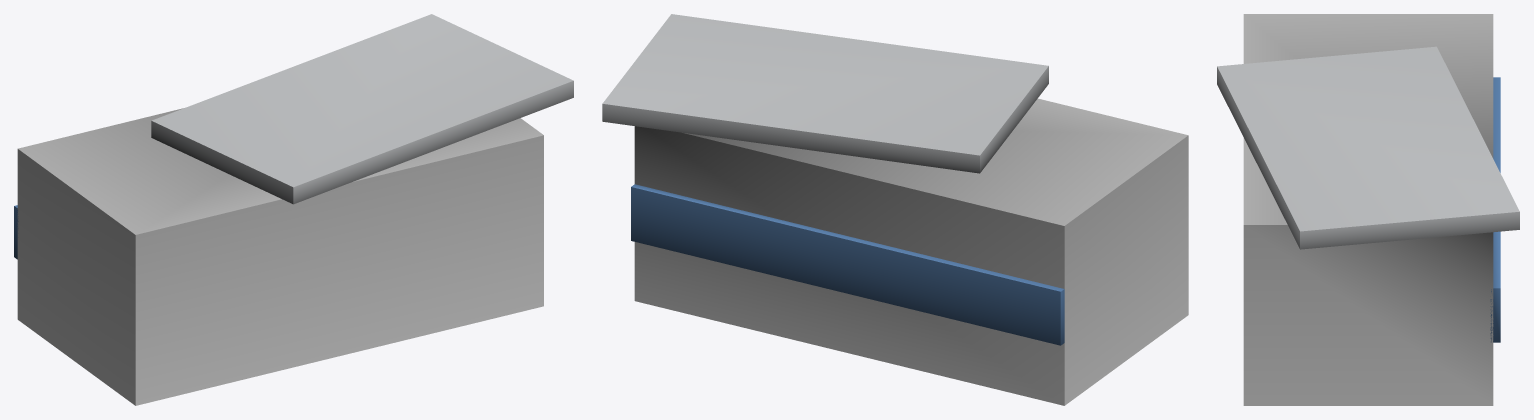
Rendered from Loot_Painkillers.fbx.
The picture shows the model from 3 angles, left to right: view 1: azimuth 30°, elevation 25°; view 2: azimuth 150°, elevation 25°; view 3: azimuth 270°, elevation 25°; orthographic projection. The views are drawn at different scales.
Visible parts, largest first — view 1: Loot_Painkillers; view 2: Loot_Painkillers; view 3: Loot_Painkillers.
Boxes of the visible parts, x1,y1,x2,y2 form: Loot_Painkillers: (14,14,573,405); Loot_Painkillers: (602,14,1188,405); Loot_Painkillers: (1217,14,1519,405).
Bounding box in the file's own units: 0.1138 × 0.045 × 0.0606.
